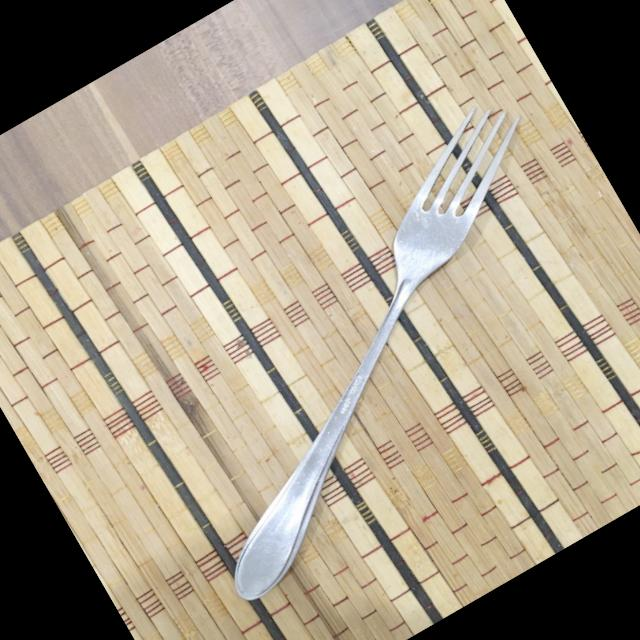fork: (86, 89, 640, 603)
